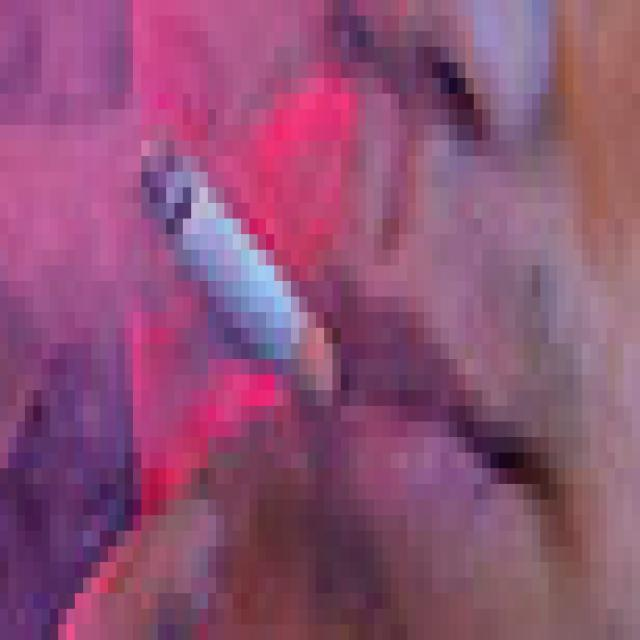cigarette: (140, 134, 347, 415)
